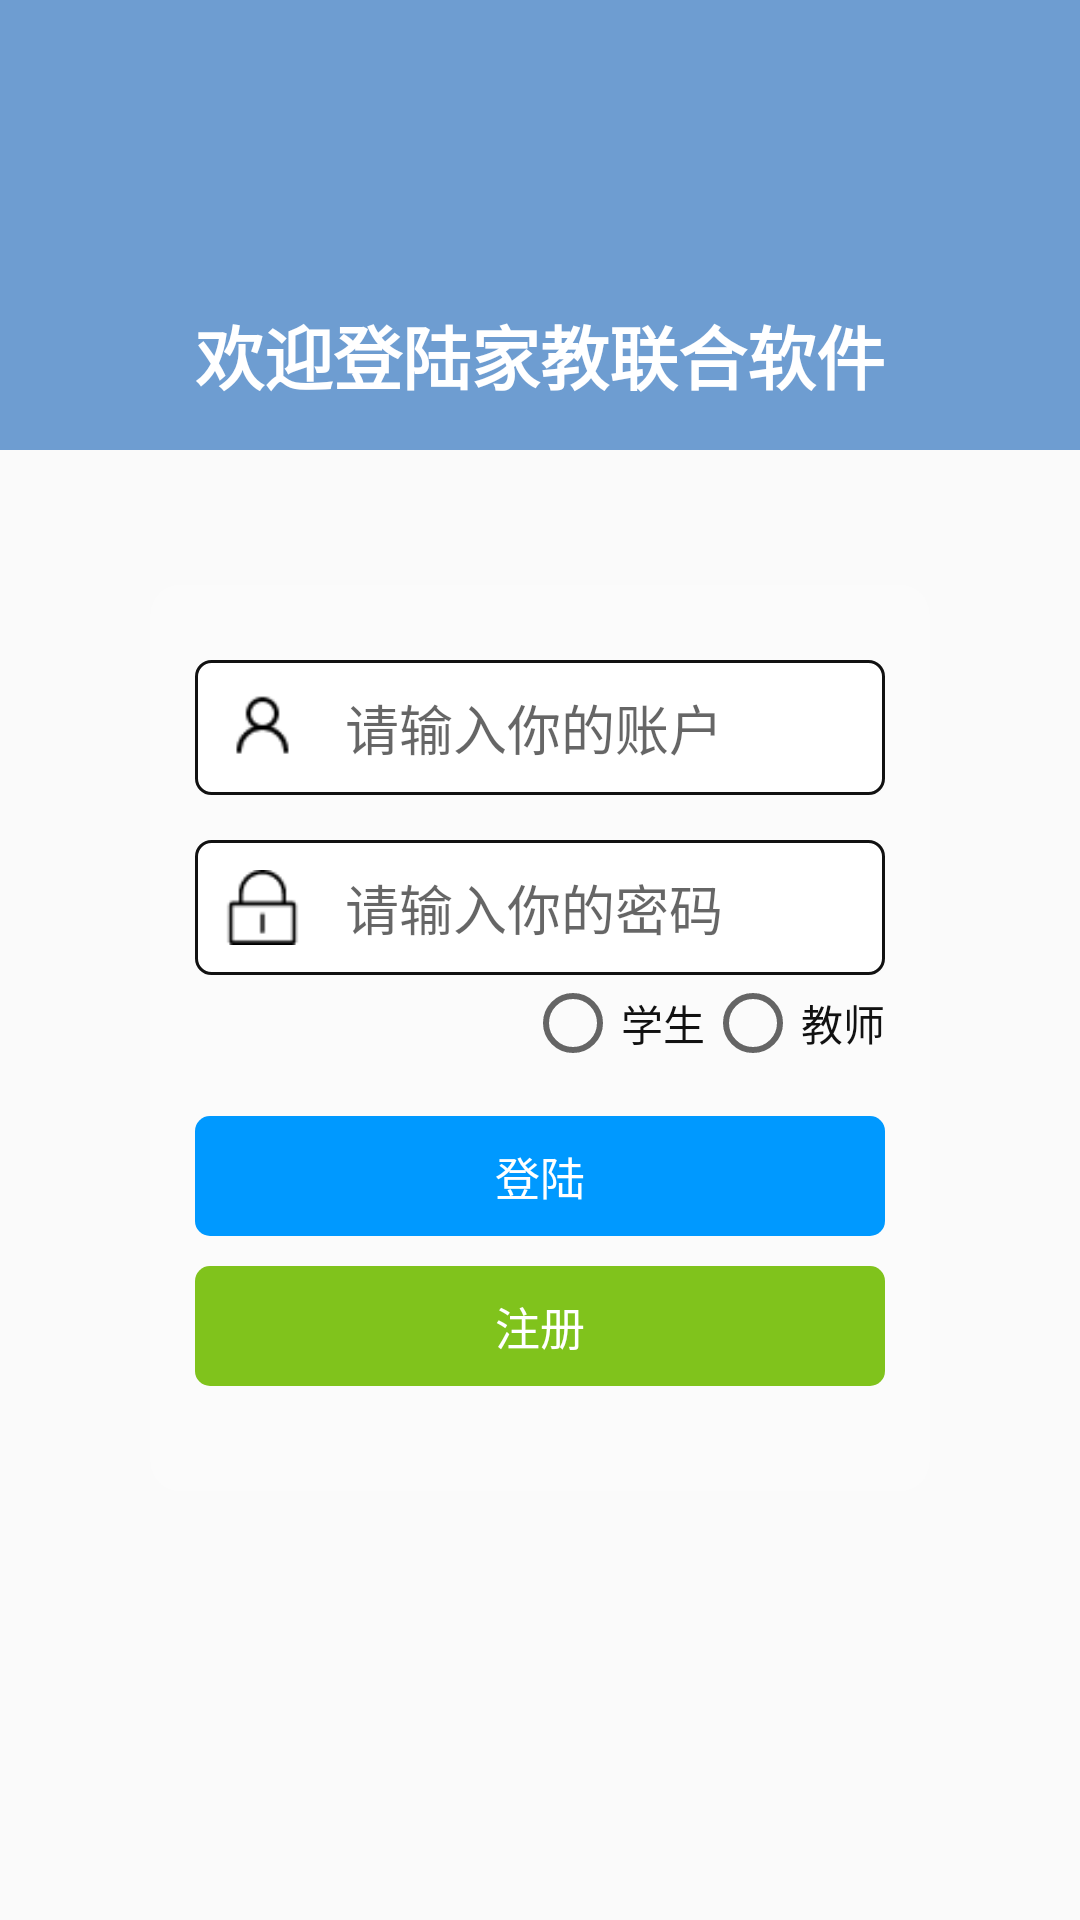

Icon bounding boxes for this 1080px x 1920px phone screenshot, format Rect(x1, y1, x2, y2):
account: Rect(236, 696, 289, 754)
